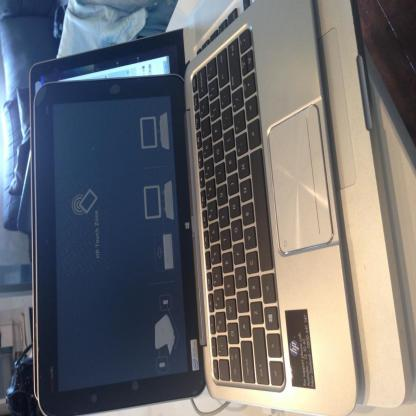board: (32, 0, 358, 415)
